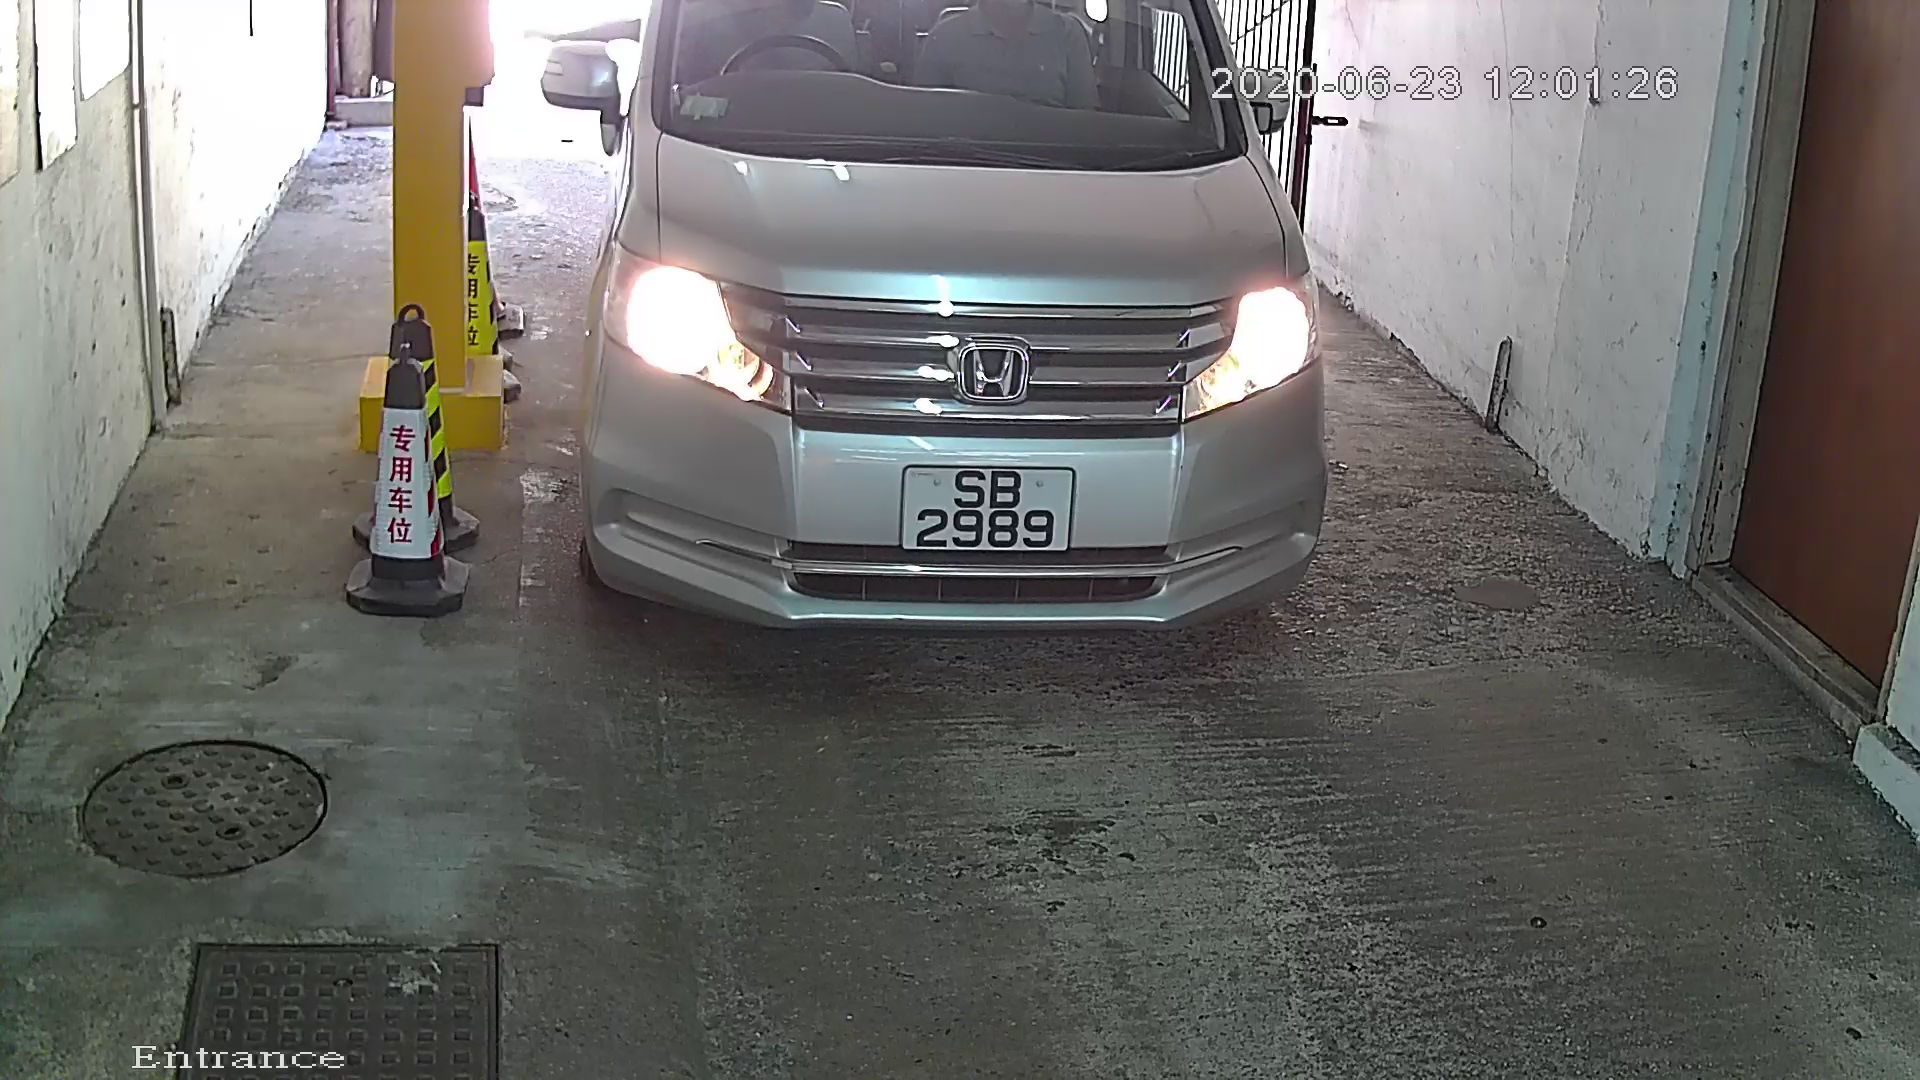privatecar: (505, 1, 1387, 665)
